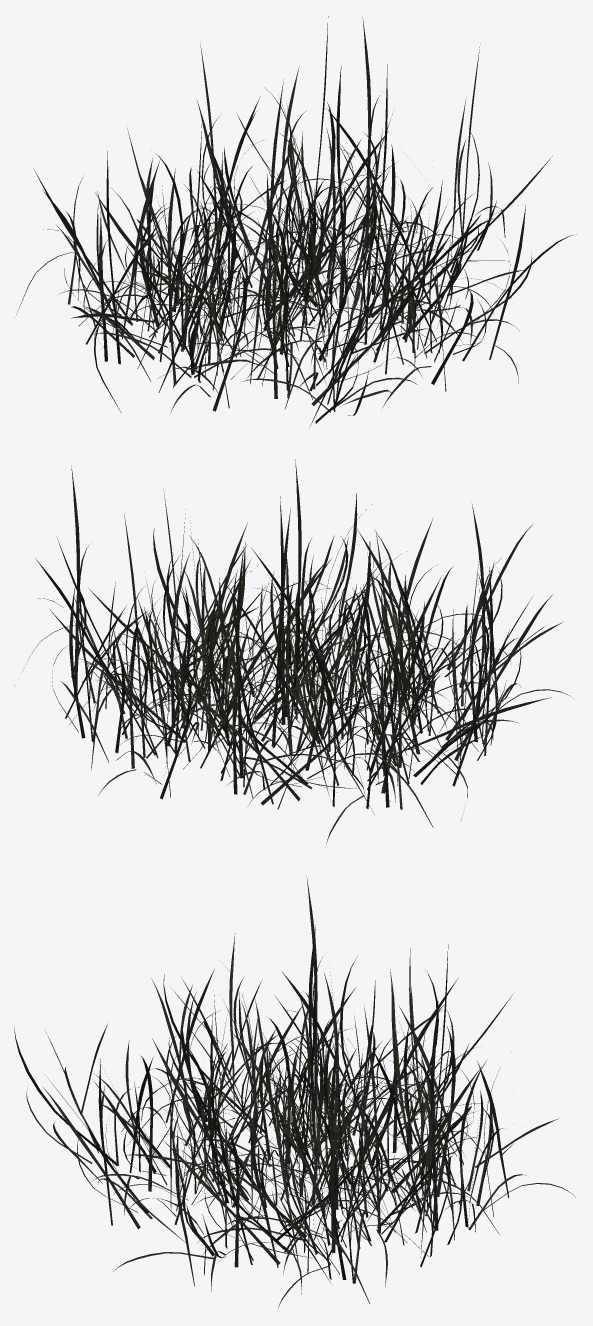
Rendered from grass lods 1.obj.
3 views of the same model, one above another, from view 1: azimuth 30°, elevation 25°; view 2: azimuth 150°, elevation 25°; view 3: azimuth 270°, elevation 25° (orthographic).
Parts seen in each view (by area): view 1: Plane55, Plane 121, Plane45, Plane, Plane24, Plane 47; view 2: Plane, Plane10, Plane54, Plane9, Plane30, Plane 1, Plane 111, Plane 17, Plane 151, Plane 157, Plane 124, Plane 123 (+2 smaller); view 3: Plane9, Plane24, Plane45, Plane15, Plane 18, Plane 113, Plane 144.
Part boxes in pixels (left/top/right/bottom): Plane55: left=362, top=17, right=370, bottom=246; Plane 121: left=272, top=224, right=280, bottom=398; Plane45: left=336, top=65, right=346, bottom=277; Plane: left=268, top=79, right=283, bottom=310; Plane24: left=106, top=151, right=120, bottom=364; Plane 47: left=121, top=159, right=160, bottom=339; Plane: left=271, top=496, right=284, bottom=746; Plane10: left=235, top=546, right=243, bottom=778; Plane54: left=71, top=465, right=79, bottom=699; Plane9: left=124, top=513, right=145, bottom=757; Plane30: left=293, top=459, right=301, bottom=686; Plane 1: left=285, top=582, right=293, bottom=754; Plane 111: left=454, top=594, right=552, bottom=760; Plane 17: left=381, top=628, right=424, bottom=793; Plane 151: left=170, top=552, right=190, bottom=727; Plane 157: left=261, top=691, right=361, bottom=805; Plane 124: left=380, top=654, right=389, bottom=807; Plane 123: left=470, top=572, right=490, bottom=742; Plane9: left=430, top=1001, right=438, bottom=1230; Plane24: left=306, top=876, right=317, bottom=1105; Plane45: left=364, top=1005, right=380, bottom=1233; Plane15: left=308, top=925, right=315, bottom=1138; Plane 18: left=390, top=969, right=397, bottom=1152; Plane 113: left=152, top=1038, right=248, bottom=1200; Plane 144: left=43, top=1087, right=140, bottom=1229.
Size of the model in its own units: 5.35 by 3.02 by 5.36.
